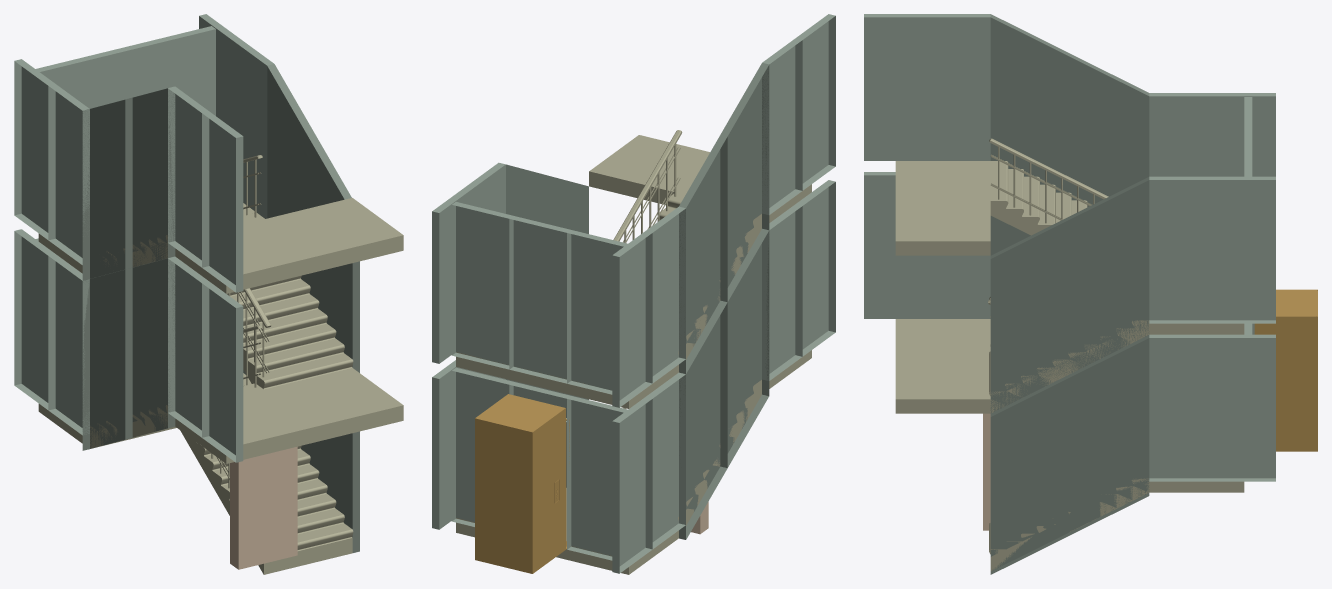
The model's file is entrance_test_04_uni.fbx.
3 views of the same model, side by side, from view 1: azimuth 30°, elevation 25°; view 2: azimuth 150°, elevation 25°; view 3: azimuth 270°, elevation 25° (orthographic). The views are drawn at different scales.
Parts seen in each view (by area): view 1: pPlane778; view 2: pPlane778; view 3: pPlane778.
Boxes of the visible parts, left/top/right/bottom form: pPlane778: left=14, top=14, right=403, bottom=574; pPlane778: left=432, top=14, right=835, bottom=574; pPlane778: left=864, top=14, right=1317, bottom=574.
Bounding box in the file's own units: 325 × 825 × 716.
